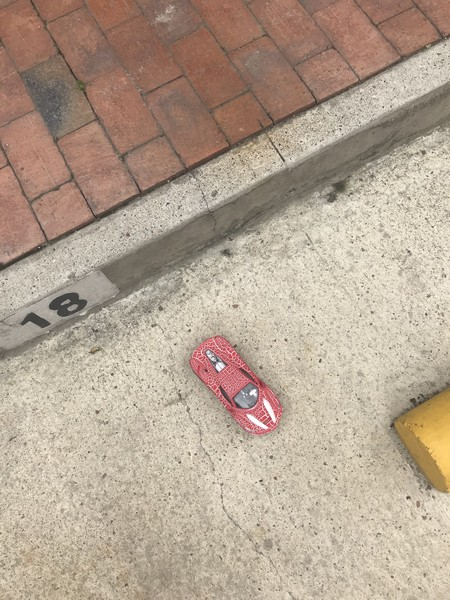RC: (188, 334, 286, 438)
